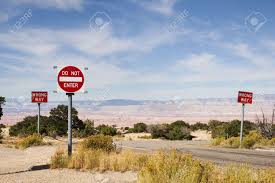doNotEnter: (54, 66, 86, 94)
